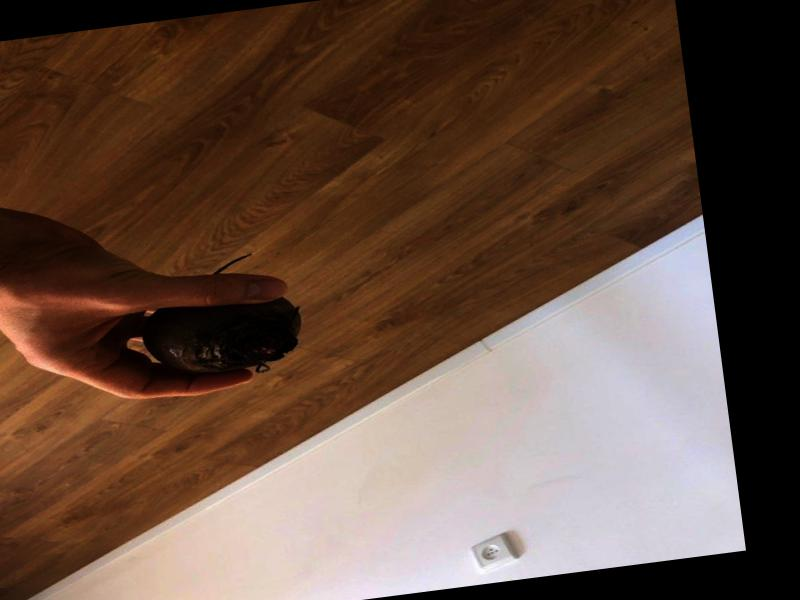Beet: (135, 248, 307, 384)
